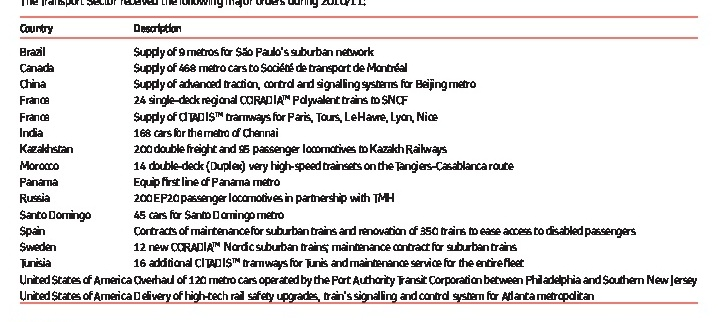table: (0, 0, 722, 322)
